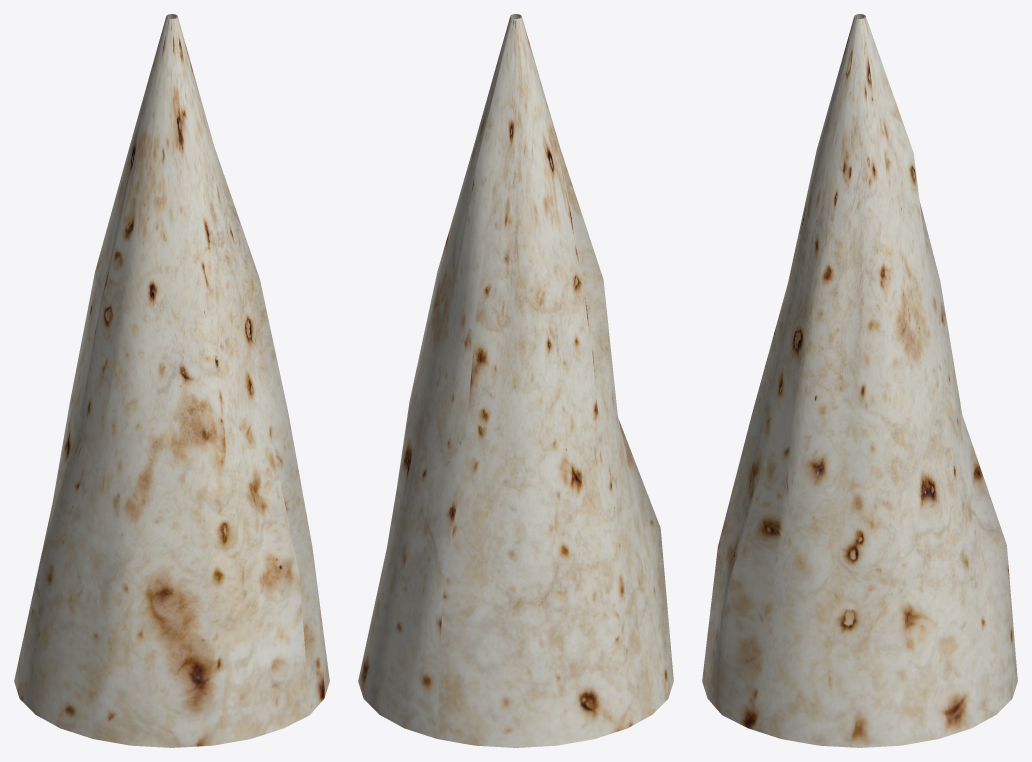
Rendered from rotitisu.fbx.
3 views of the same model, side by side, from view 1: azimuth 30°, elevation 25°; view 2: azimuth 150°, elevation 25°; view 3: azimuth 270°, elevation 25° (orthographic).
Parts seen in each view (by area): view 1: Cone001; view 2: Cone001; view 3: Cone001.
Boxes of the visible parts, <box> form: Cone001: <box>14,14,329,747</box>; Cone001: <box>358,14,673,747</box>; Cone001: <box>702,14,1017,747</box>.
Bounding box in the file's own units: 34.8 × 80.89 × 34.8.
